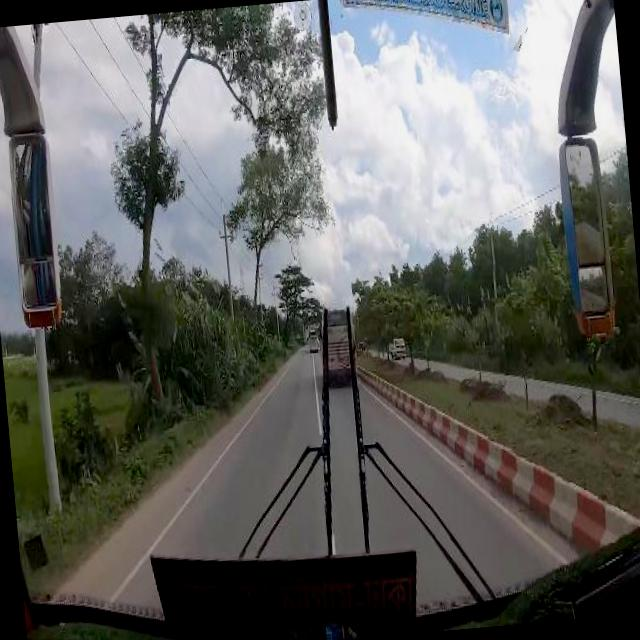bus: (319, 308, 357, 379)
truck: (386, 334, 404, 358)
